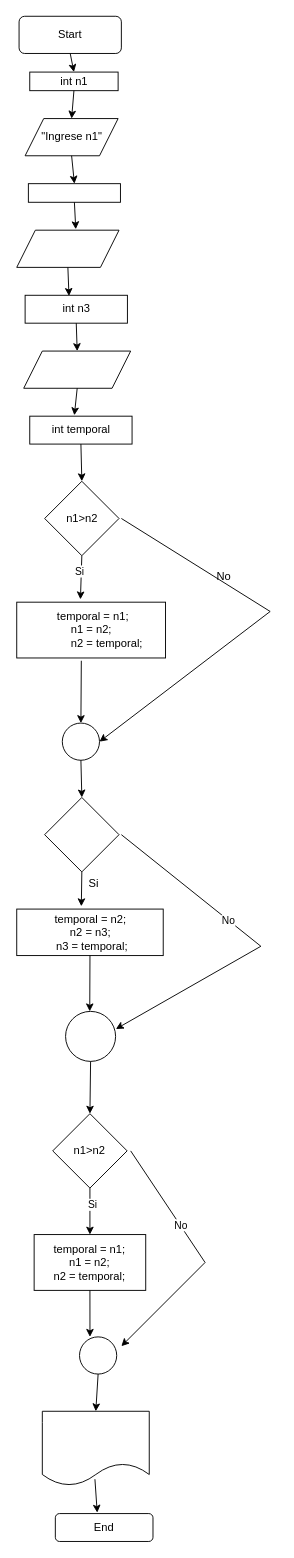
Some shapes in this 294 by 1558 pixel diagram are drawn without their labels. The shapes that lost their labels are listed below. From the top down, each one's box as (x1, y1, x2, y2) in pixels, then its label:
(27, 183, 120, 202): int n2
(16, 229, 119, 267): "Ingrese n2"
(23, 350, 131, 388): "Ingrese n3"
(44, 797, 119, 872): n2 > n3
(41, 1410, 149, 1486): "Ordenados {n1}, {n2}, {n3}"
